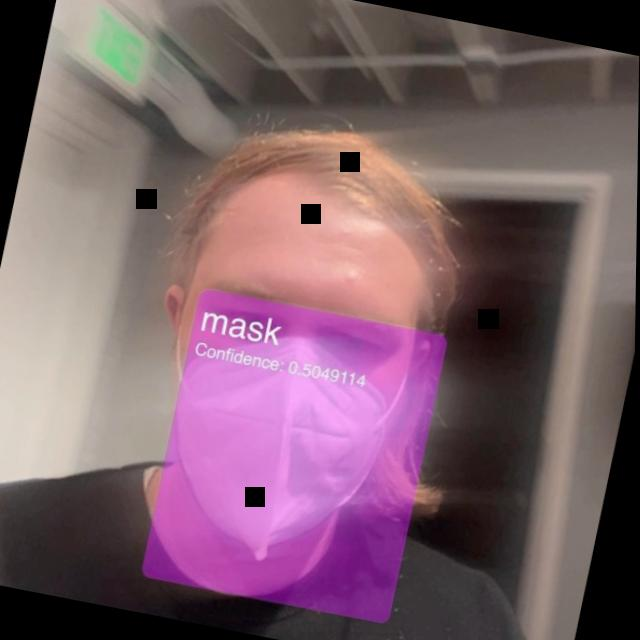Mask: (96, 93, 503, 620)
